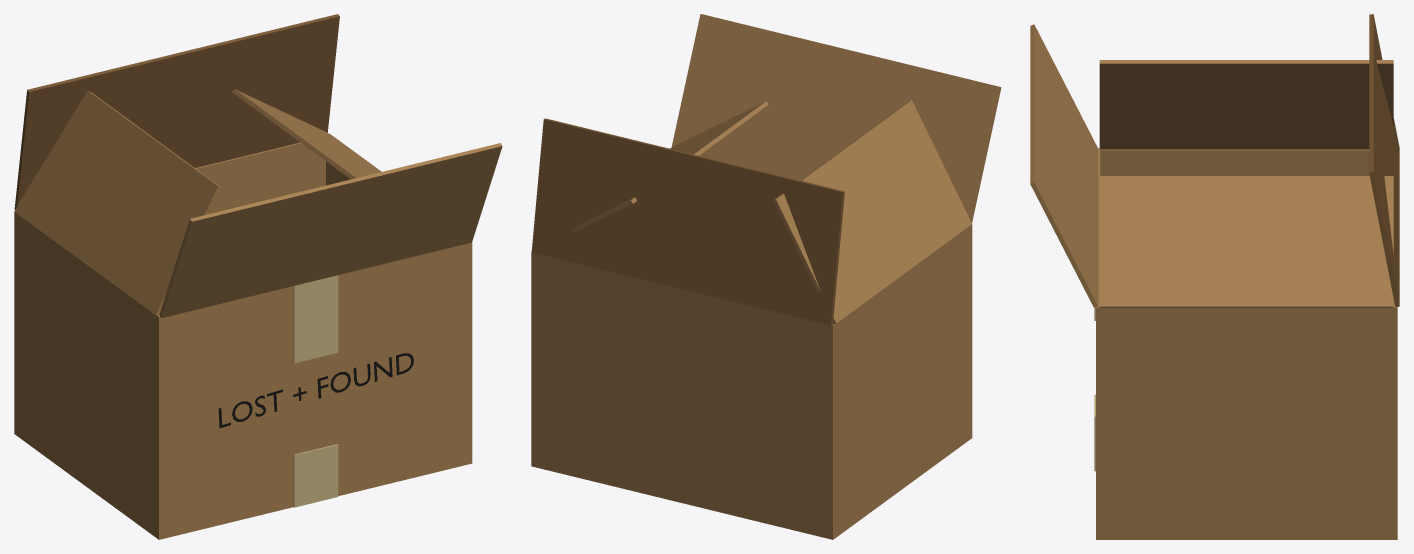
The model's file is cardboard_box.glb.
3 renders of one model, left to right at view 1: azimuth 30°, elevation 25°; view 2: azimuth 150°, elevation 25°; view 3: azimuth 270°, elevation 25°, orthographic. The views are drawn at different scales.
Visible parts, largest first — view 1: CardboardBox; view 2: CardboardBox; view 3: CardboardBox.
Part boxes in pixels (x1,y1,x2,y2): CardboardBox: (14, 14, 502, 539); CardboardBox: (531, 14, 1001, 539); CardboardBox: (1030, 14, 1399, 539).
Bounding box in the file's own units: 0.5043 × 0.5375 × 0.4902.
